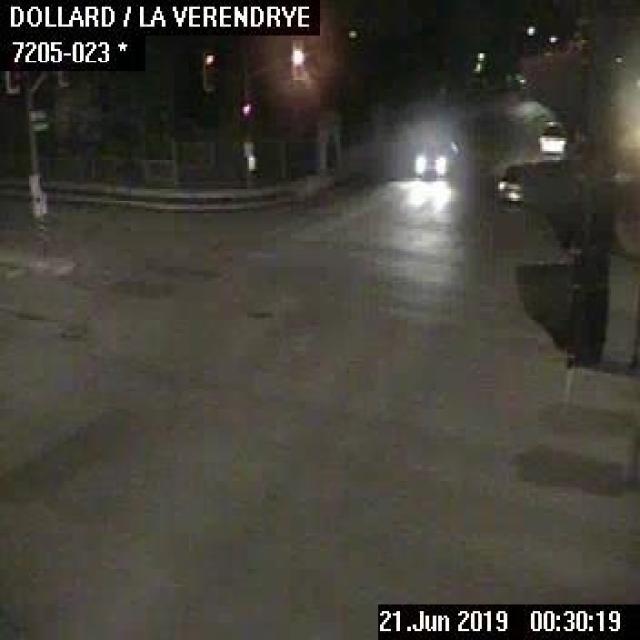vehicle: (413, 136, 461, 178), (494, 162, 522, 205), (536, 120, 564, 156)
